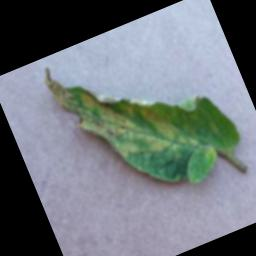Leaf_Mold: (38, 7, 253, 221)
